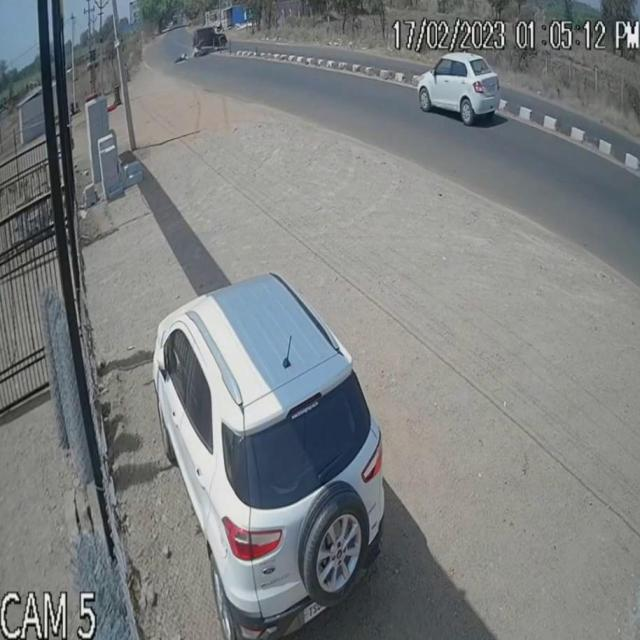accident: (177, 21, 231, 69)
